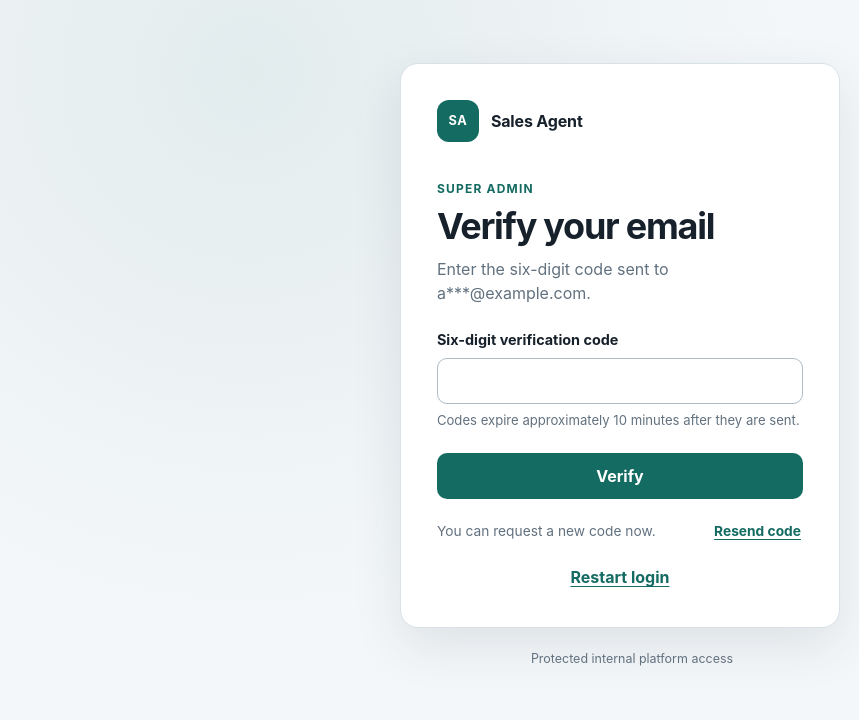
Test: Super Admin OTP verification › shows a generic error for a wrong OTP and never persists it
The image size is (859, 720).
In the field labelled "Six-digit verification code": (620, 381) [437,358,803,404], type "123456"
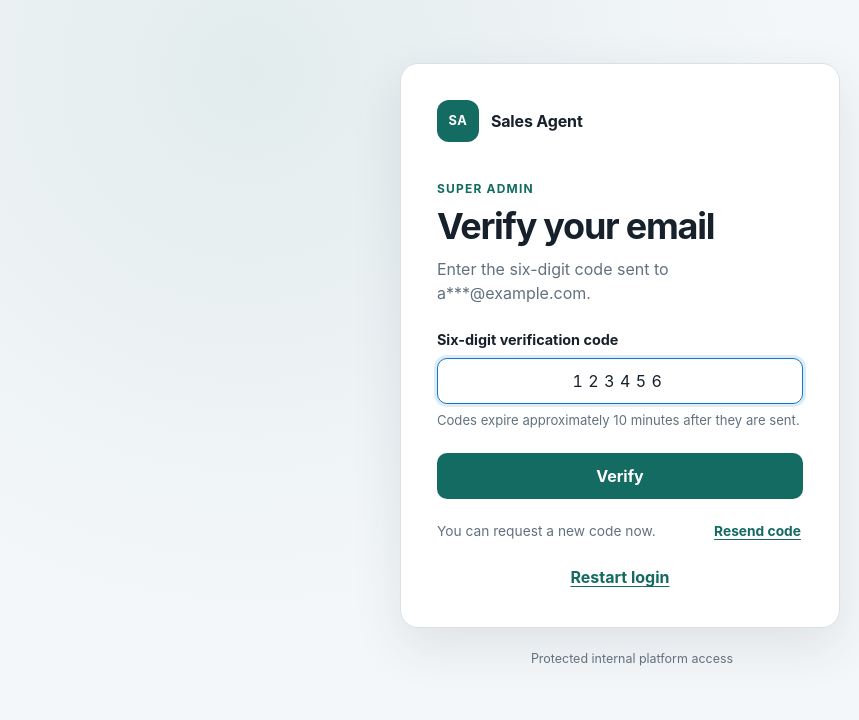
Click the button "Verify": (620, 476) [437,453,803,499]
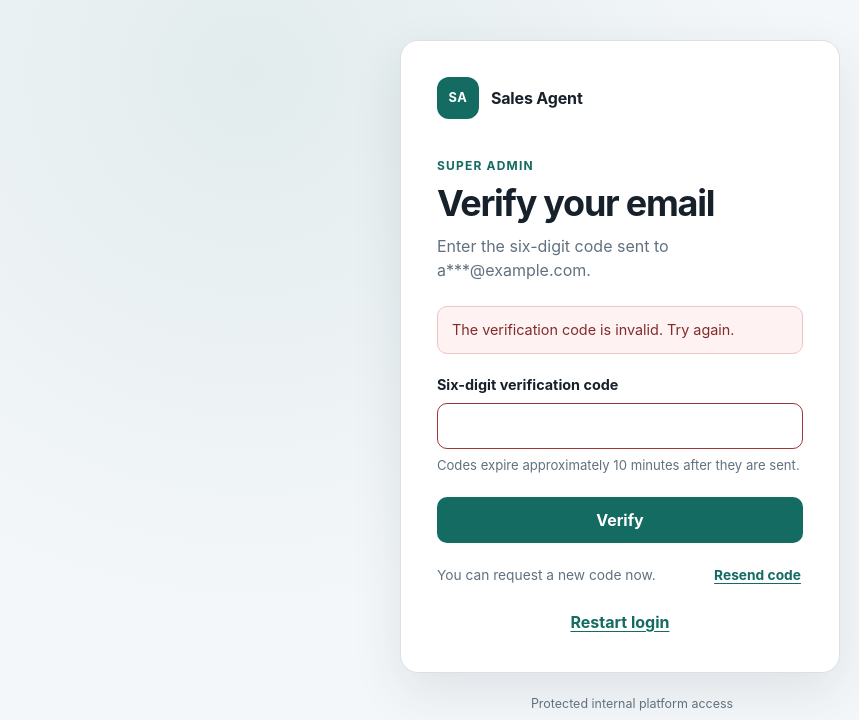
Check: the message reads "The verification code is invalid. Try again.", box [452,321,734,338]
Check: the field labelled "Six-digit verification code" is empty, box [437,403,803,449]
